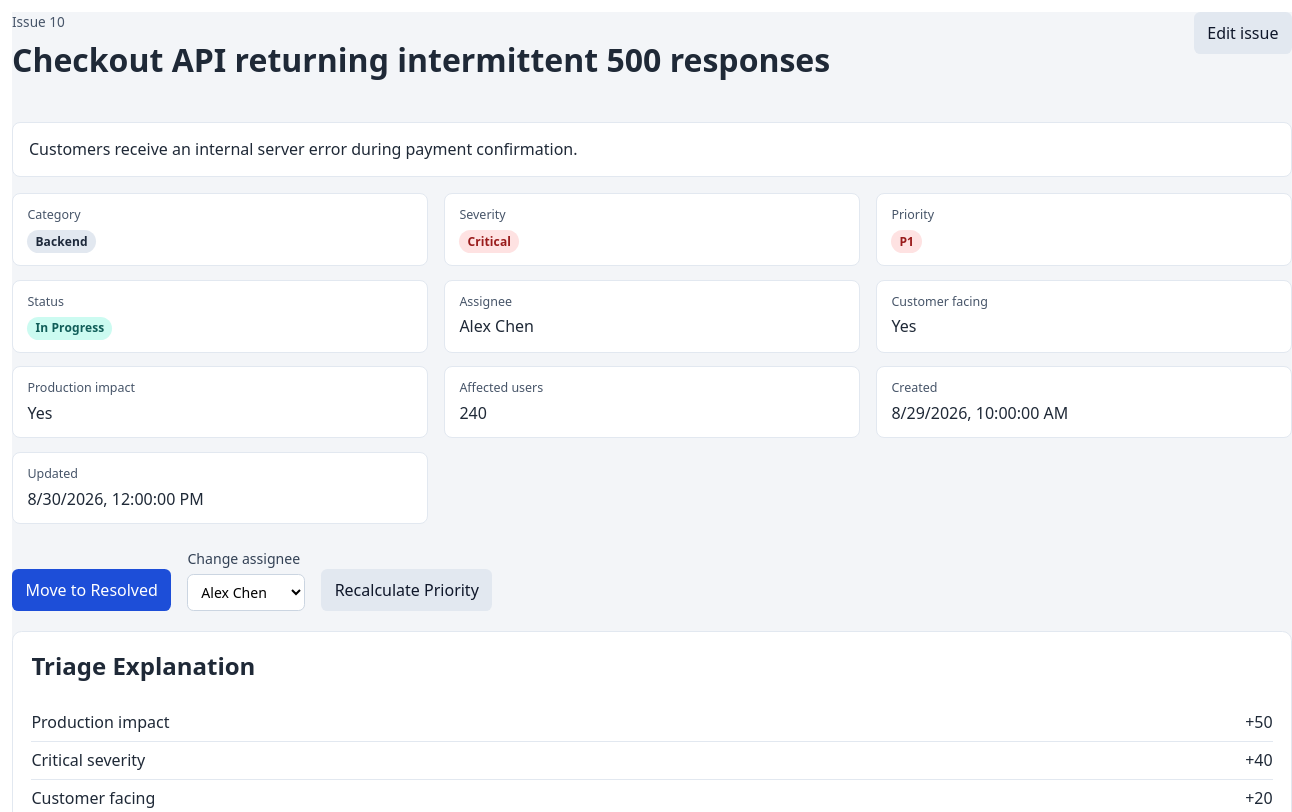
Test case: IssueDetailPage › renders issue detail, triage explanation, and recalculation result
Expected: the heading "Checkout API returning intermittent 500 responses" is shown, [12,36,830,84]
Expected: the heading "Triage Explanation" is shown, [31,649,255,682]
Click the button "Recalculate Priority": click(407, 590) [321,570,492,611]
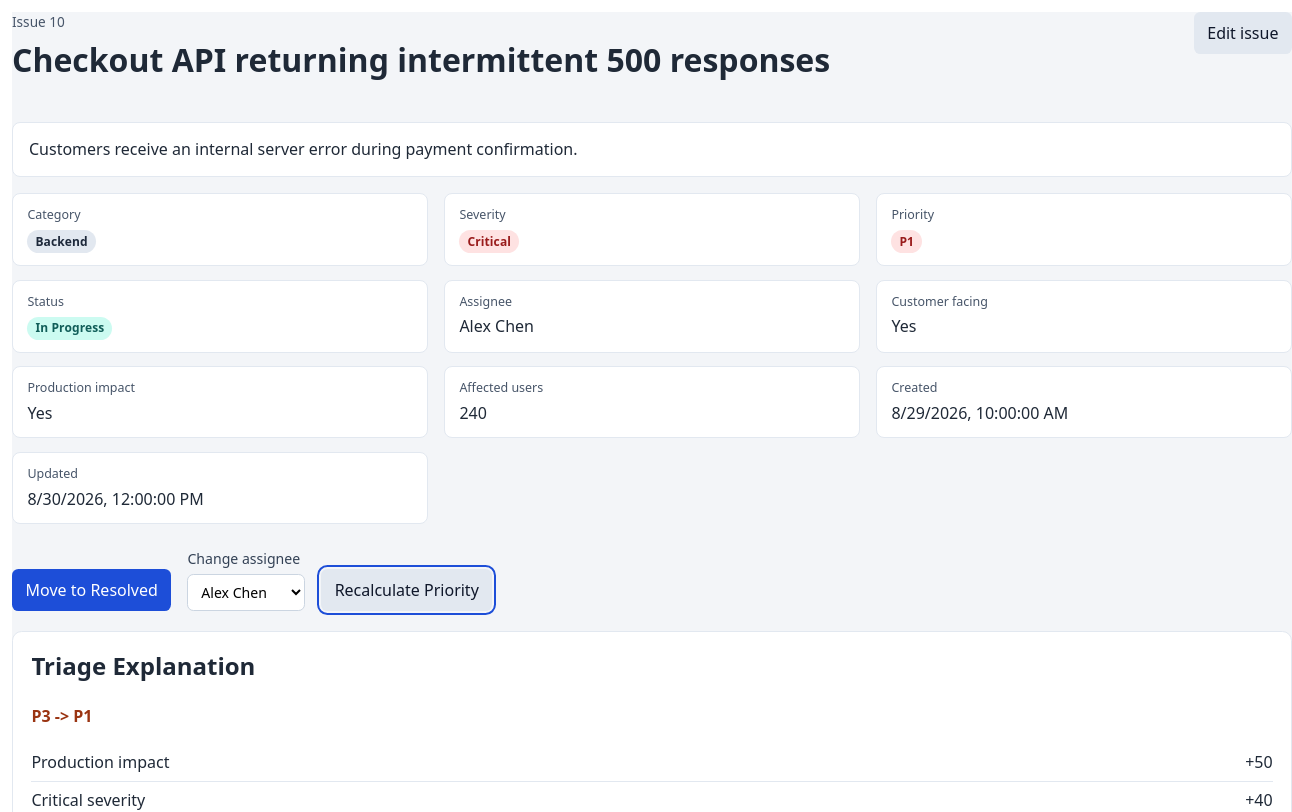
Expected: the text "P3 -> P1" is shown, [31,705,92,727]
